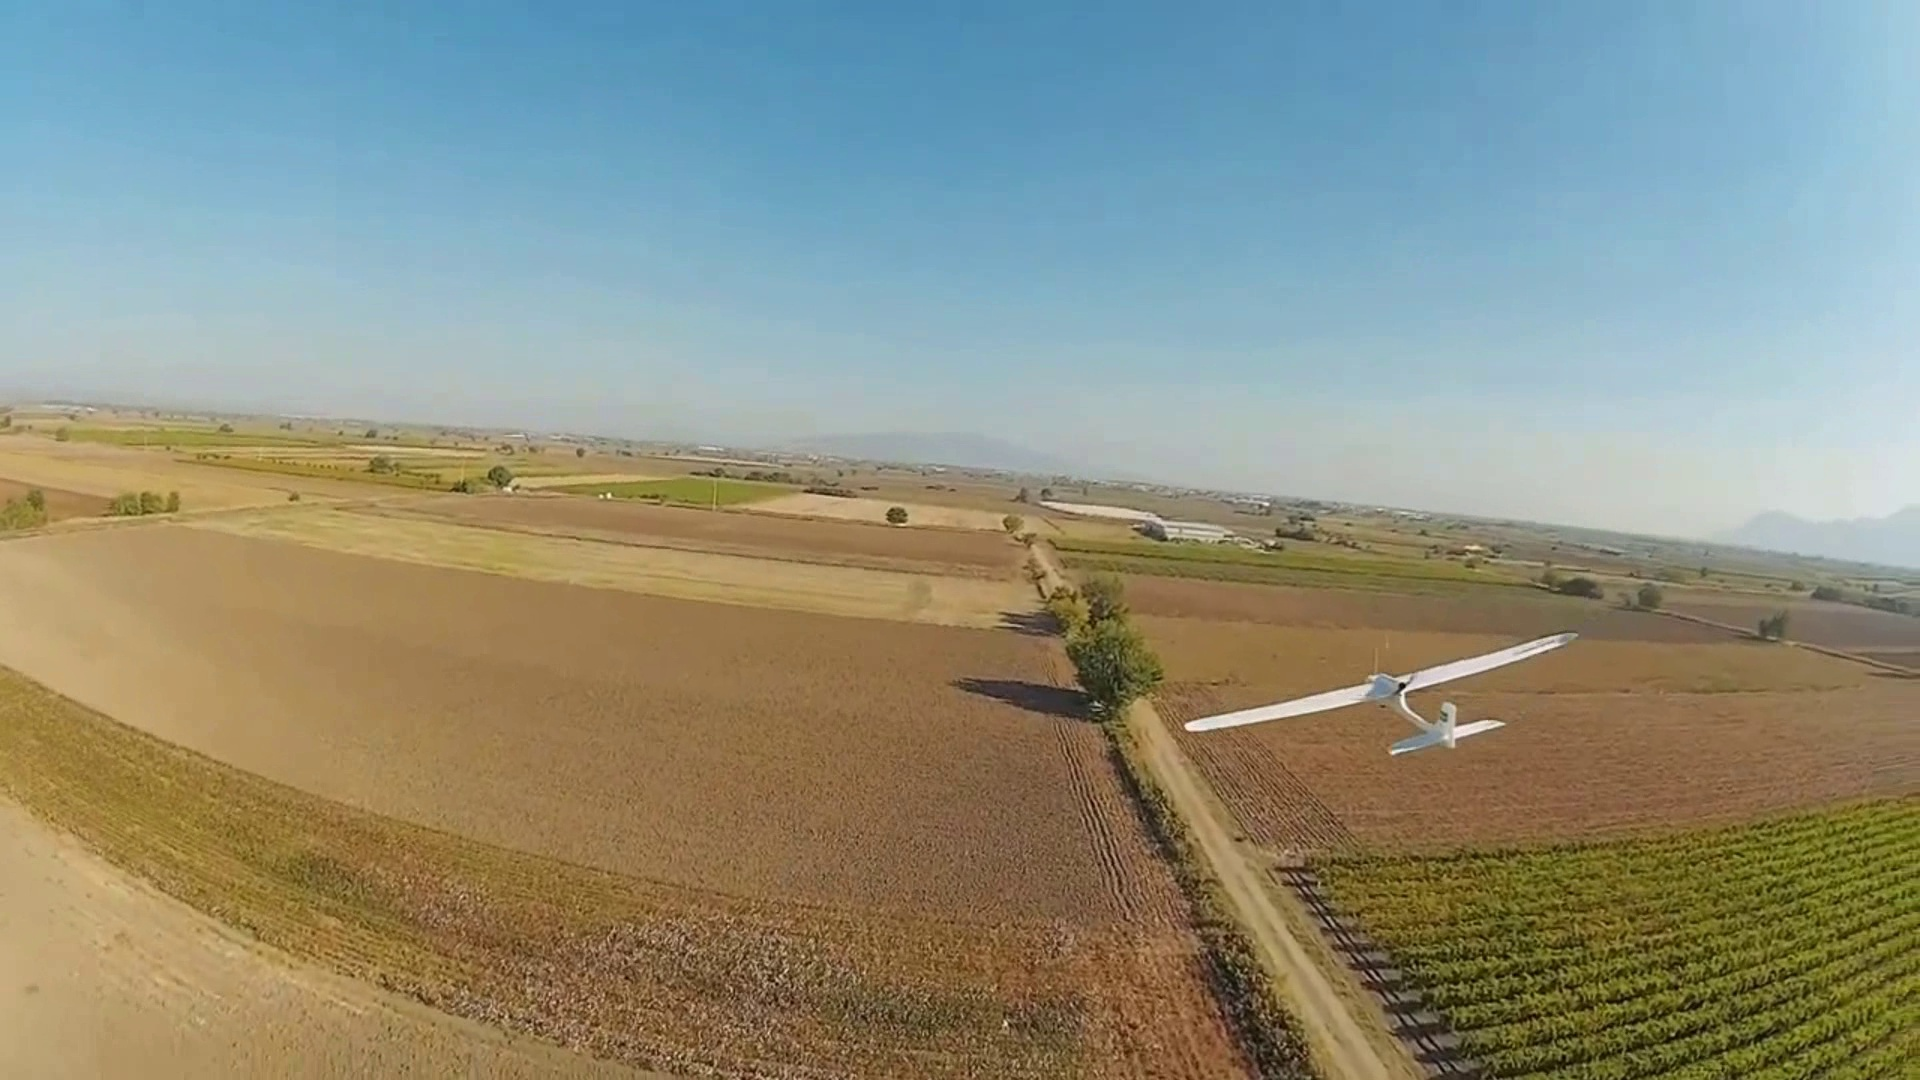airplane: (1183, 626, 1581, 742)
